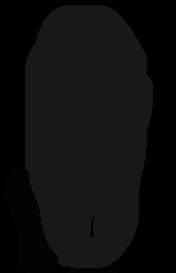fp: (18, 1, 155, 266)
